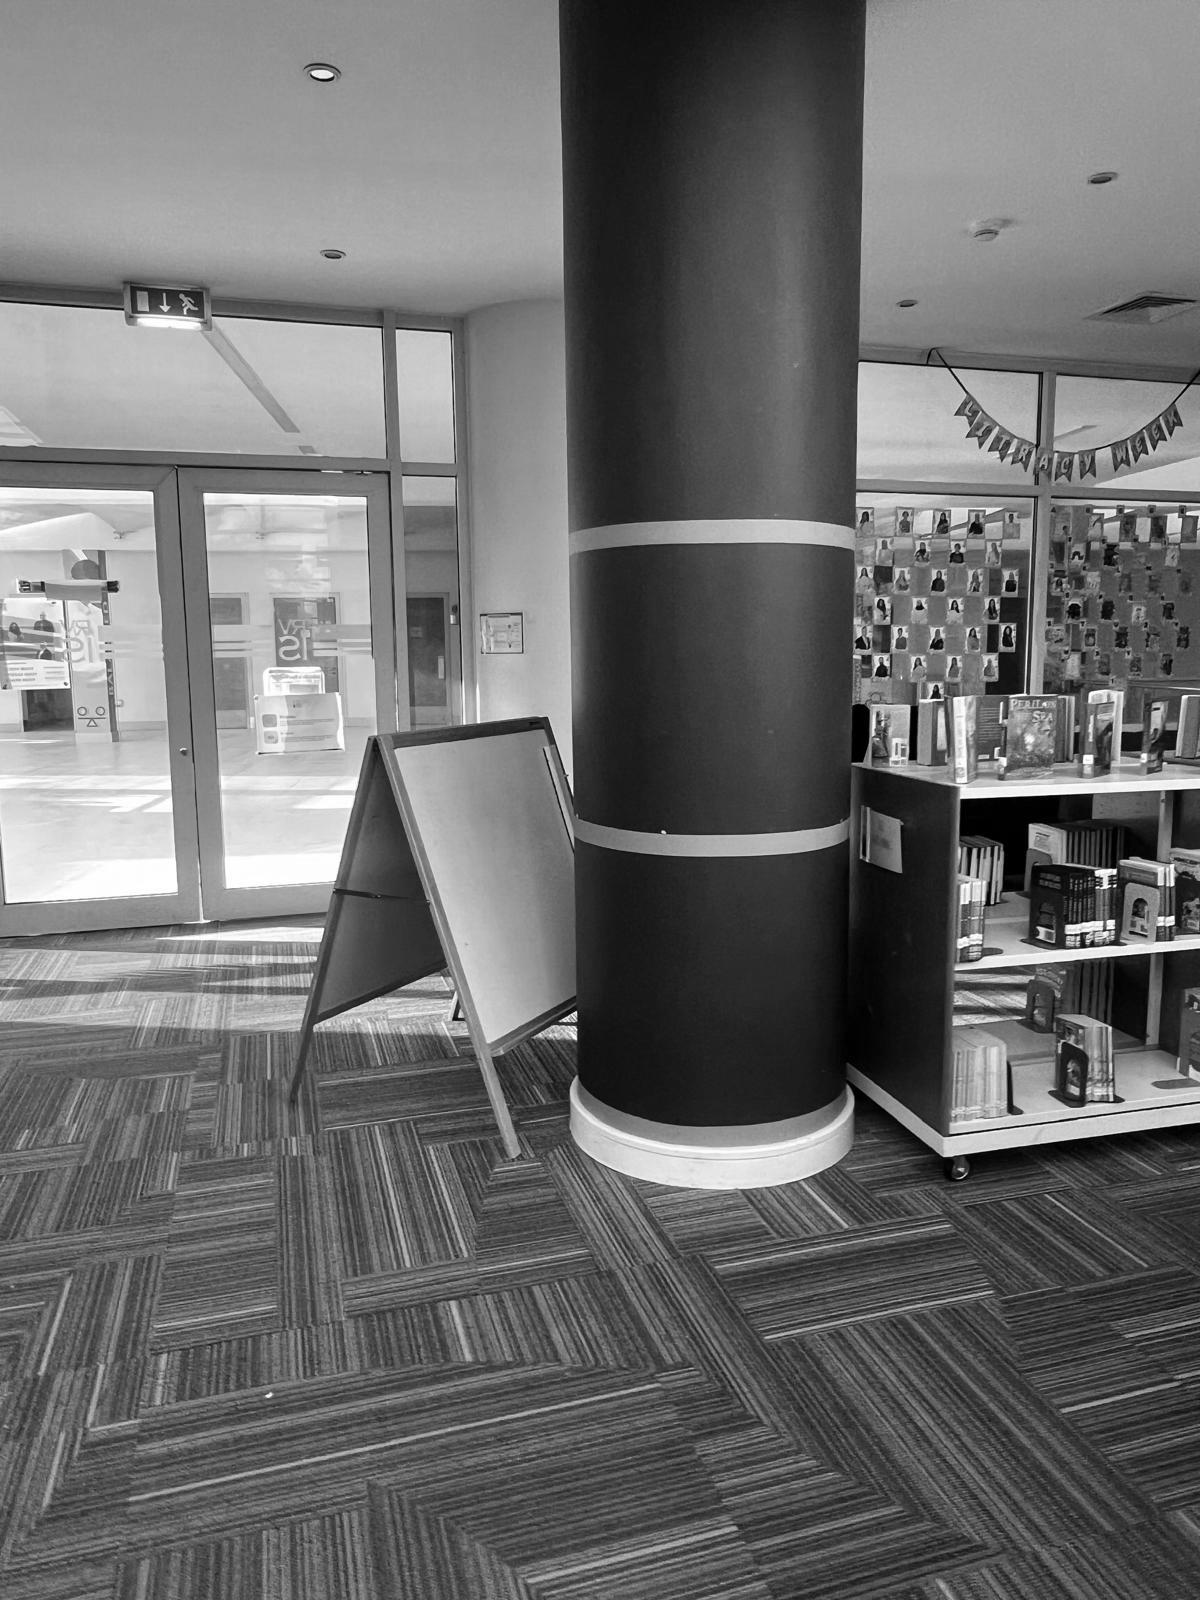Pillar: (560, 0, 863, 1180), (466, 301, 572, 775)
